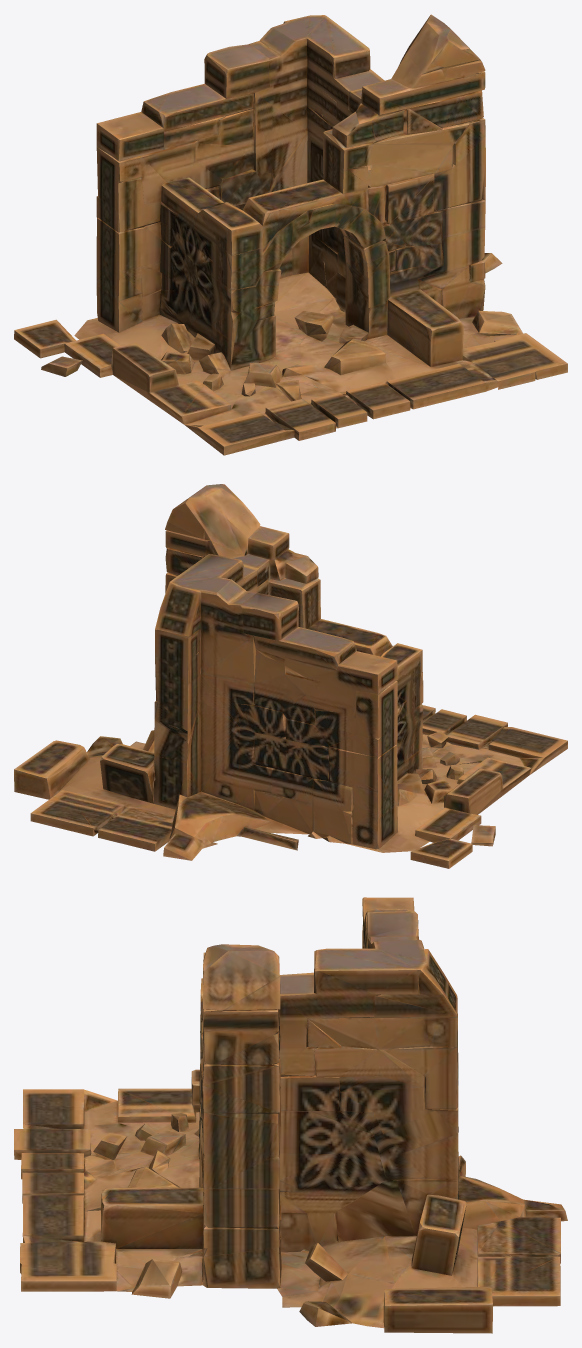
Rendered from wall_temple.glb.
3 views of the same model, one above another, from view 1: azimuth 30°, elevation 25°; view 2: azimuth 150°, elevation 25°; view 3: azimuth 270°, elevation 25° (orthographic). The views are drawn at different scales.
Bounding box in the file's own units: 1.9 × 1.11 × 1.7.
Materials: 1 (1 with a texture image).
